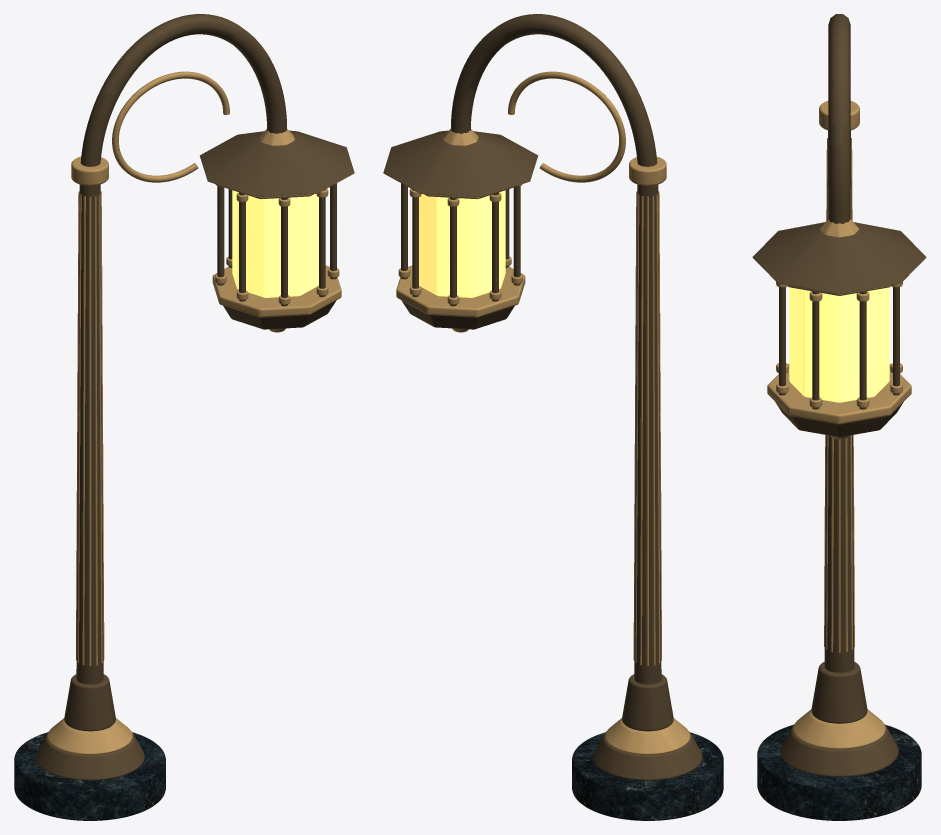
File: keeper-lantern.glb
3 renders of one model, left to right at view 1: azimuth 30°, elevation 25°; view 2: azimuth 150°, elevation 25°; view 3: azimuth 270°, elevation 25°, orthographic. The views are drawn at different scales.
Parts seen in each view (by area): view 1: keeper-lantern — Oil-rubbed bronze, keeper-lantern — Worn champagne brass, keeper-lantern — Blue limestone, keeper-lantern — Honey opal; view 2: keeper-lantern — Oil-rubbed bronze, keeper-lantern — Worn champagne brass, keeper-lantern — Blue limestone, keeper-lantern — Honey opal; view 3: keeper-lantern — Oil-rubbed bronze, keeper-lantern — Worn champagne brass, keeper-lantern — Honey opal, keeper-lantern — Blue limestone.
Boxes of the visible parts, box(x1,y1,x2,y2) form: keeper-lantern — Oil-rubbed bronze: box(35, 14, 354, 780); keeper-lantern — Worn champagne brass: box(47, 71, 341, 754); keeper-lantern — Blue limestone: box(14, 732, 165, 820); keeper-lantern — Honey opal: box(232, 190, 318, 297); keeper-lantern — Oil-rubbed bronze: box(383, 14, 702, 780); keeper-lantern — Worn champagne brass: box(396, 71, 690, 754); keeper-lantern — Blue limestone: box(572, 732, 723, 820); keeper-lantern — Honey opal: box(419, 190, 505, 297); keeper-lantern — Oil-rubbed bronze: box(752, 14, 926, 776); keeper-lantern — Worn champagne brass: box(767, 101, 911, 748); keeper-lantern — Honey opal: box(789, 287, 889, 402); keeper-lantern — Blue limestone: box(757, 725, 921, 820).
Bounding box in the file's own units: 1.27 × 2.83 × 0.55.
4 materials, 1 textured.
